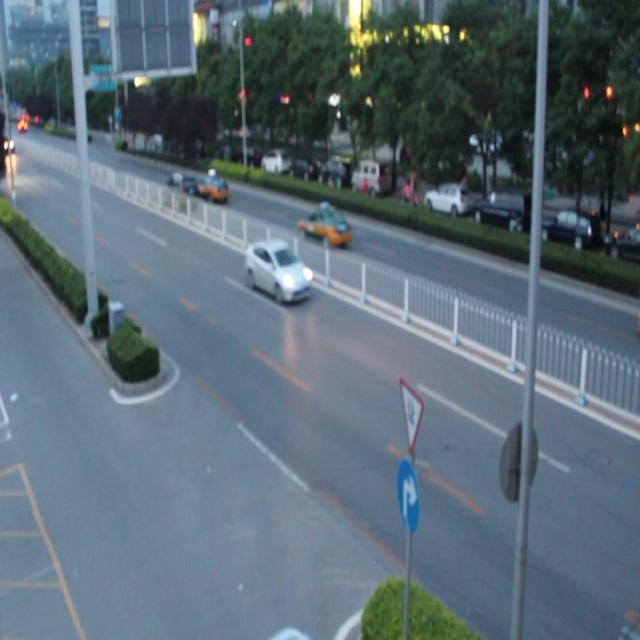car: (244, 242, 312, 302), (296, 207, 350, 246), (164, 173, 196, 207), (195, 172, 228, 203)
